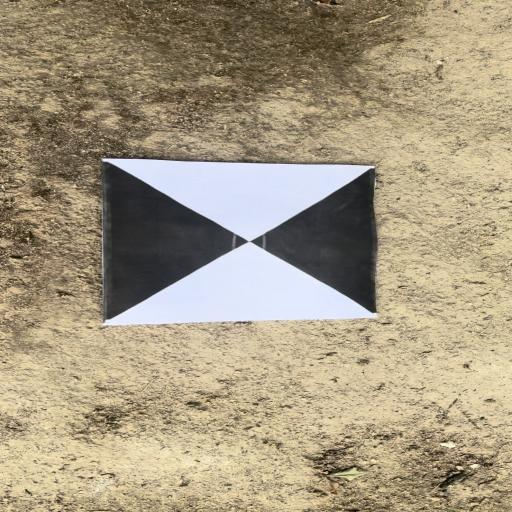target: (102, 158, 377, 318)
